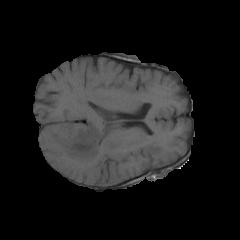glioma: (43, 117, 125, 170)
